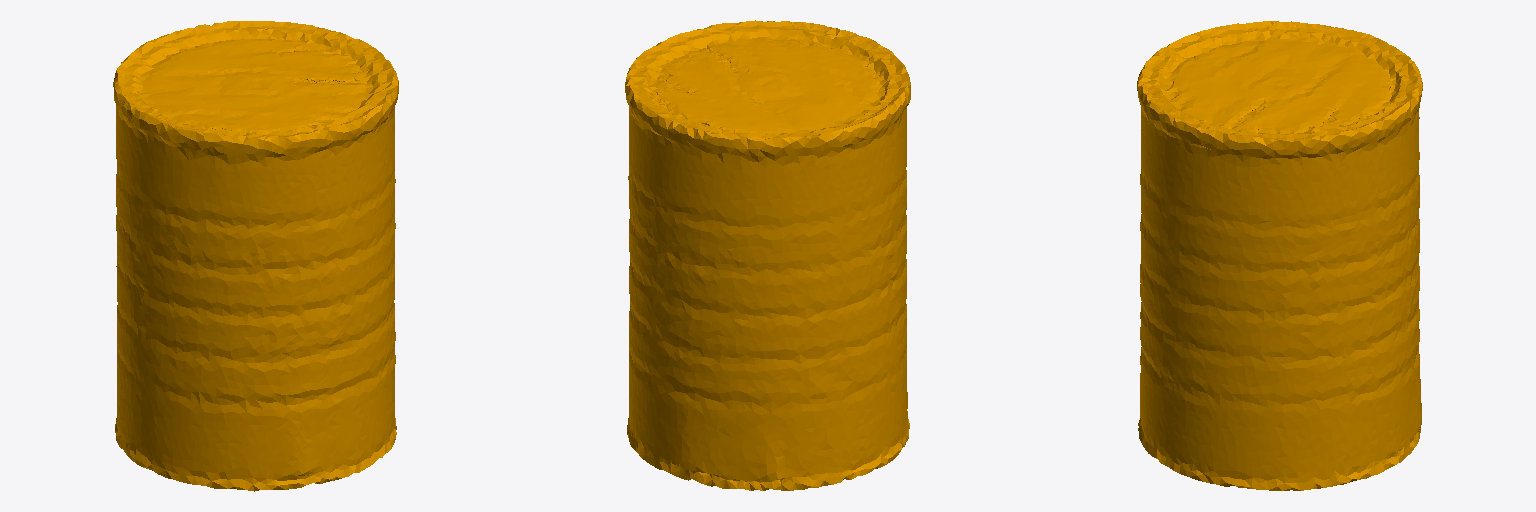
URDF robot description (scaled_textured_simple):
<?xml version='1.0' encoding='utf-8'?>
<robot name="scaled_textured_simple">
  <link name="base_link">
    <visual>
      <origin xyz="0 0 0" rpy="0 0 0" />
      <geometry>
        <mesh filename="scaled_textured_simple.obj" />
      </geometry>
    </visual>
    <collision>
      <origin xyz="0 0 0" rpy="0 0 0" />
      <geometry>
        <mesh filename="scaled_textured_simple.obj" />
      </geometry>
    </collision>
    <inertial>
      <origin xyz="0 0 0" rpy="0 0 0" />
      <mass value="0.1" />
      <inertia ixx="2.14729298e-04" ixy="9.24406240e-08" ixz="-1.35634764e-07" iyy="2.14291944e-04" iyz="5.05108024e-08" izz="1.25171819e-04" />
    </inertial>
  </link>
</robot>

--- Facts derived from the render (not from the file) ---
Views: 3 orthographic renders of the robot side by side, from view 1: azimuth 30°, elevation 25°; view 2: azimuth 150°, elevation 25°; view 3: azimuth 270°, elevation 25°.
Model scaled_textured_simple with 1 links and 0 joints (none), rooted at base_link, posed every joint at zero.
Links seen in each view (by area): view 1: base_link; view 2: base_link; view 3: base_link.
Link boxes in pixels (x1,y1,x2,y2): base_link: (113, 21, 398, 491); base_link: (625, 20, 910, 490); base_link: (1137, 21, 1422, 490).
Size in the robot's own frame: 0.1023 by 0.1024 by 0.1401 metres.
1 mesh visuals loaded from 1 distinct referenced files (1 OBJ).